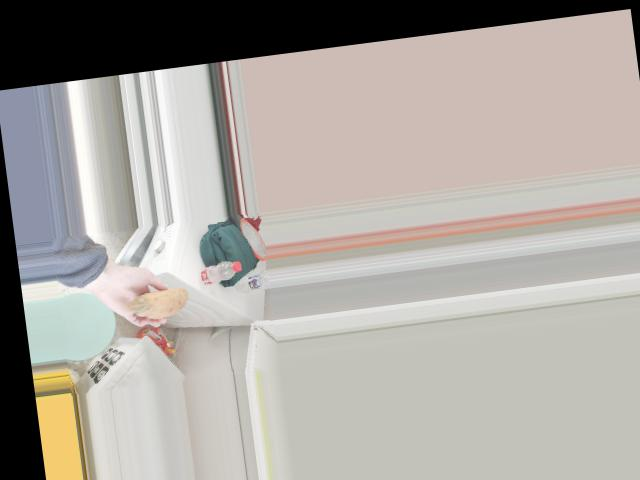sweet_potato: (133, 285, 203, 319)
